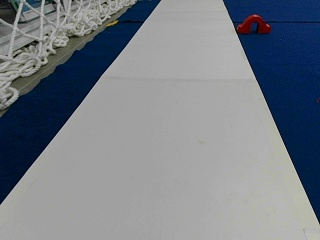bridge: (238, 14, 270, 33)
